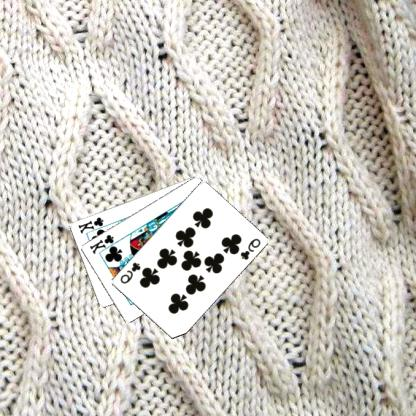9C: (119, 260, 144, 286), (240, 236, 264, 262)
KC: (88, 232, 122, 255), (77, 214, 111, 236)
